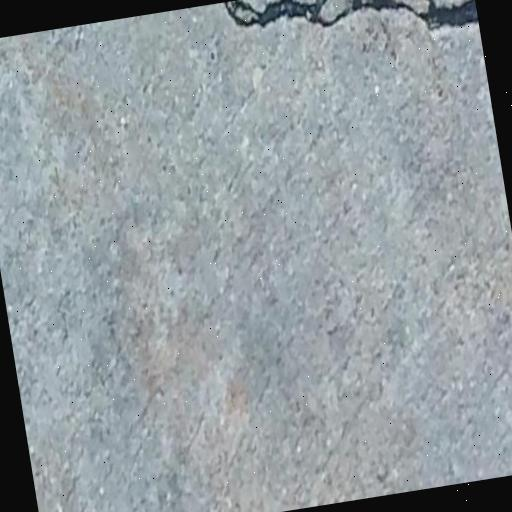spalling: (217, 0, 465, 42)
